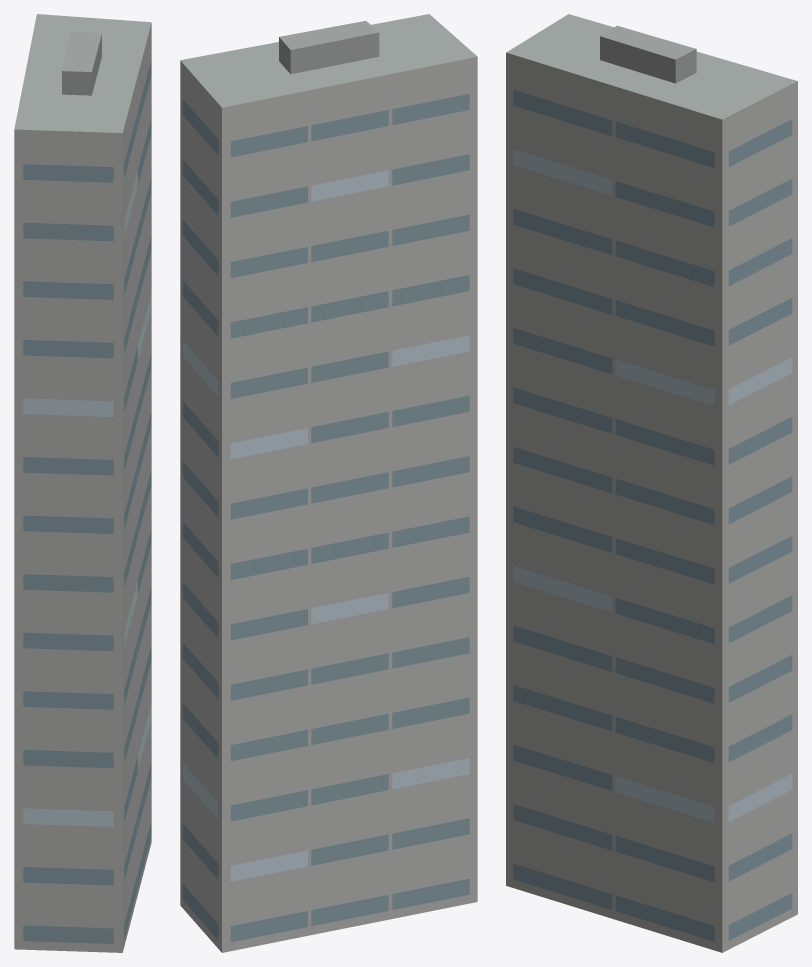
File: fallback-jamsil-ricenz-226.glb
3 views of the same model, side by side, from view 1: azimuth 30°, elevation 25°; view 2: azimuth 150°, elevation 25°; view 3: azimuth 270°, elevation 25° (orthographic). The views are drawn at different scales.
Parts seen in each view (by area): view 1: fallback-jamsil-ricenz-226; view 2: fallback-jamsil-ricenz-226; view 3: fallback-jamsil-ricenz-226.
Part boxes in pixels (<box>): fallback-jamsil-ricenz-226: <box>14,14,151,952</box>; fallback-jamsil-ricenz-226: <box>180,14,477,952</box>; fallback-jamsil-ricenz-226: <box>506,14,797,952</box>.
Bounding box in the file's own units: 22.74 × 86 × 26.53.
